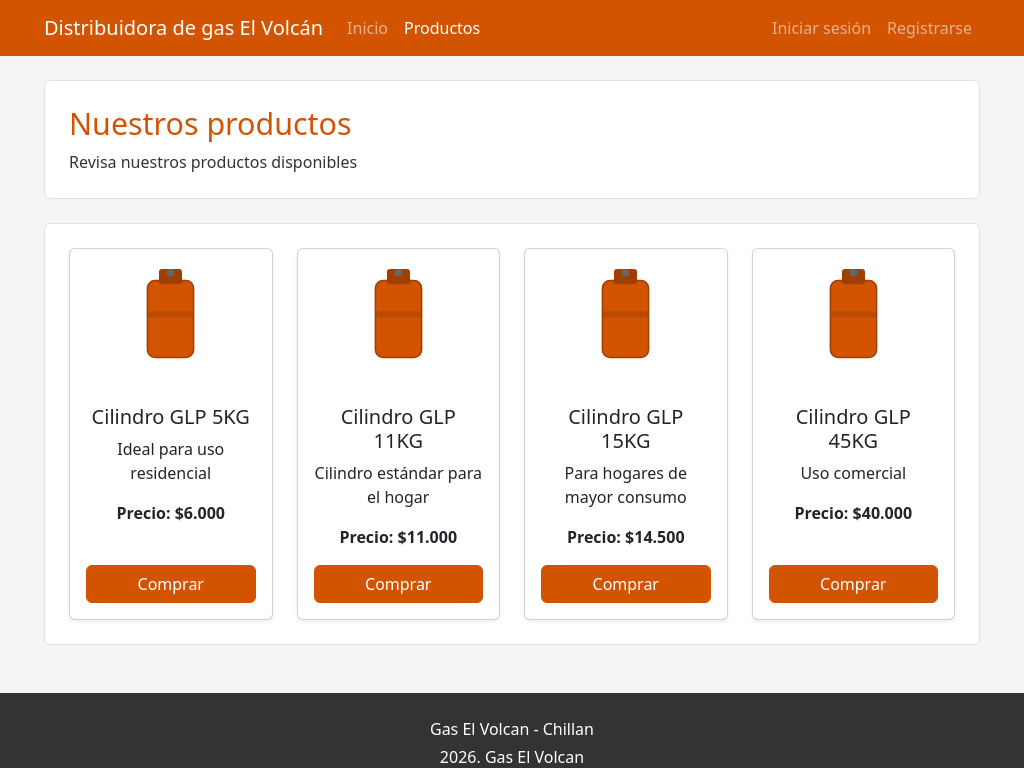
Navegación pública y rutas privadas › permite entrar directamente al catálogo y permite preparar el pedido
Expected: the heading "Nuestros productos" is shown, 69,102 -> 352,144
Click the button "Comprar" below "$6.000": (171, 584) 86,564 -> 256,602
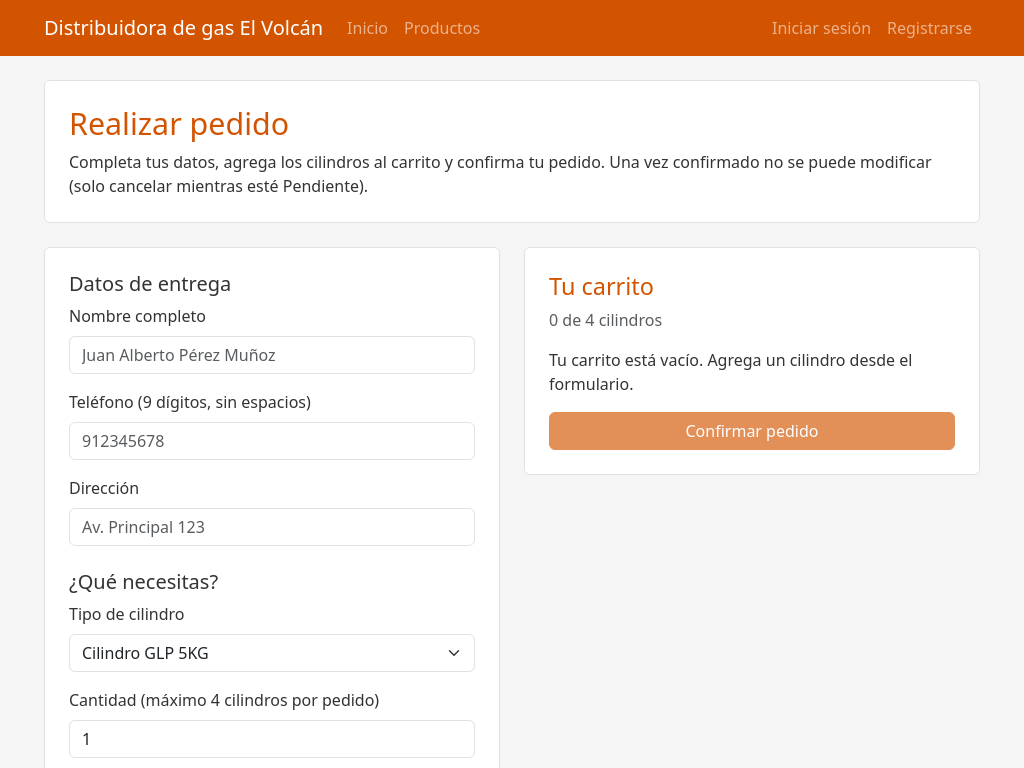
Expected: the heading "Realizar pedido" is shown, 69,102 -> 289,144
